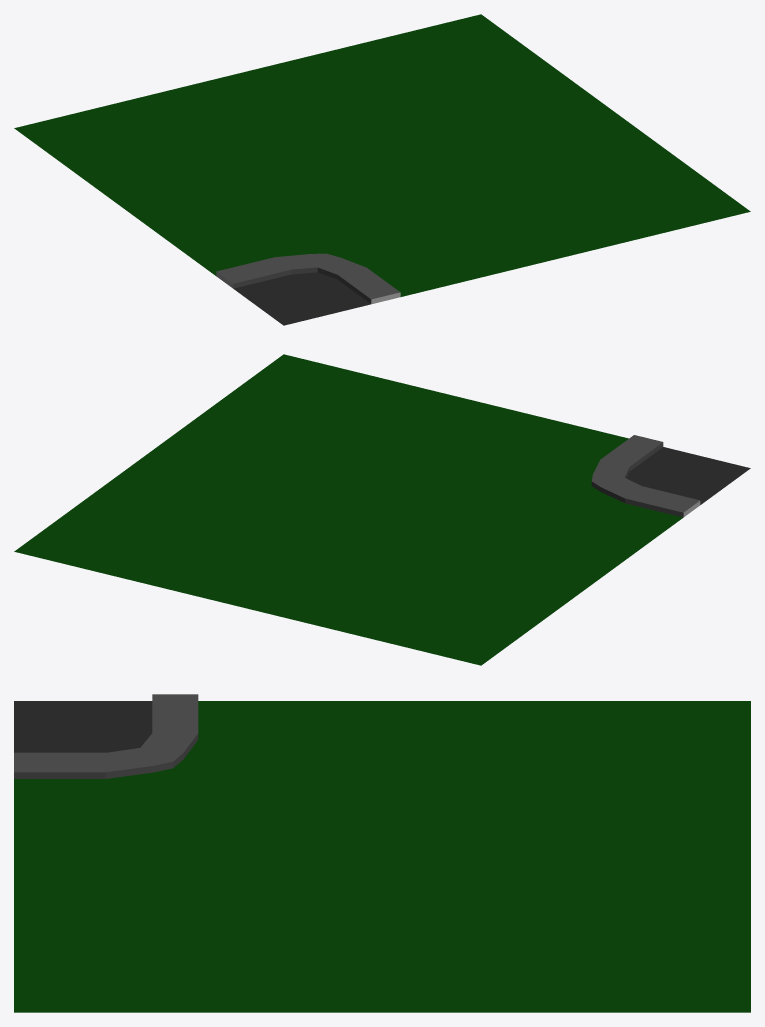
Rendered from StreetCurbEdge.fbx.
3 renders of one model, top to bottom at view 1: azimuth 30°, elevation 25°; view 2: azimuth 150°, elevation 25°; view 3: azimuth 270°, elevation 25°, orthographic. The views are drawn at different scales.
Visible parts, largest first — view 1: Plane.007; view 2: Plane.007; view 3: Plane.007.
Boxes of the visible parts, box(x1,y1,x2,y2) form: Plane.007: box(14, 14, 750, 325); Plane.007: box(14, 354, 750, 665); Plane.007: box(14, 694, 750, 1012).
Size of the model in its own units: 500 by 5 by 500.
